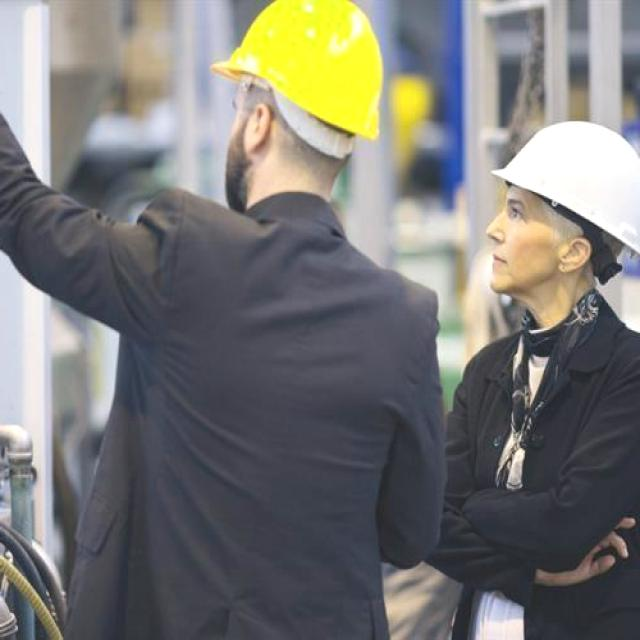face_nomask: (478, 186, 578, 303)
head_helmet: (201, 3, 397, 124), (490, 127, 639, 244)
person: (66, 13, 434, 640), (466, 116, 640, 640)
